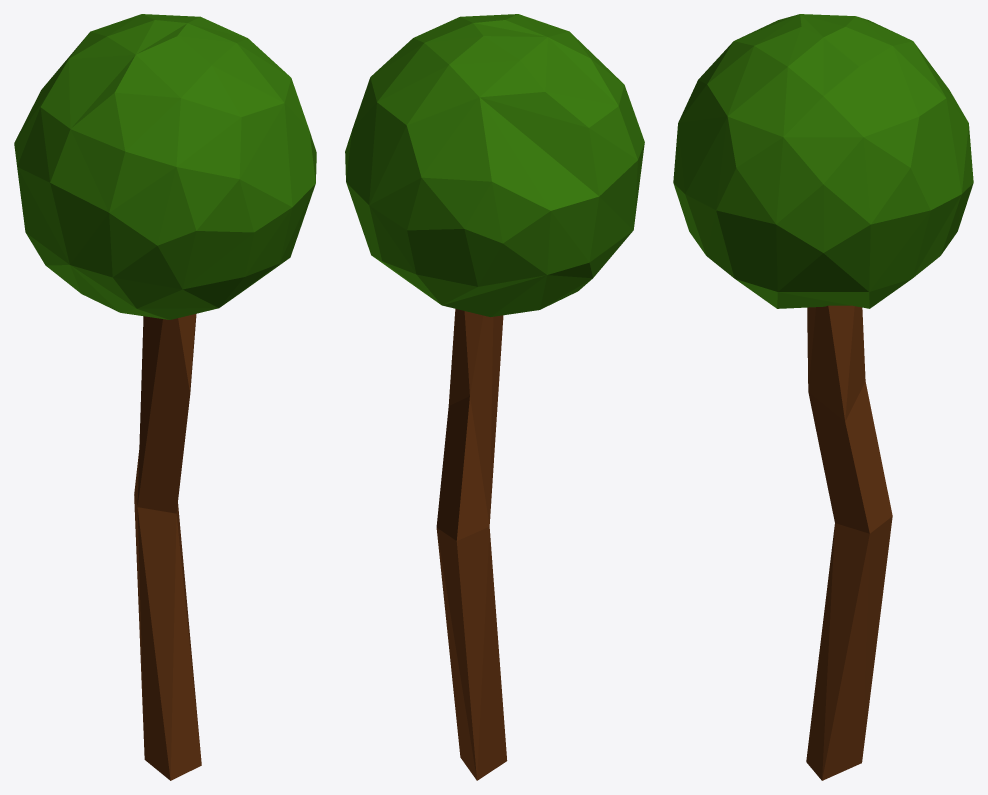
File: drzewo.fbx
3 renders of one model, left to right at view 1: azimuth 30°, elevation 25°; view 2: azimuth 150°, elevation 25°; view 3: azimuth 270°, elevation 25°, orthographic.
Visible parts, largest first — view 1: Sphere, Cylinder; view 2: Sphere, Cylinder; view 3: Sphere, Cylinder.
Part boxes in pixels (x1,y1,x2,y2): Sphere: (14,14,316,319); Cylinder: (134,313,201,780); Sphere: (345,14,644,316); Cylinder: (436,309,507,780); Sphere: (673,14,973,308); Cylinder: (806,305,892,780).
Bounding box in the file's own units: 198 × 541 × 200.
